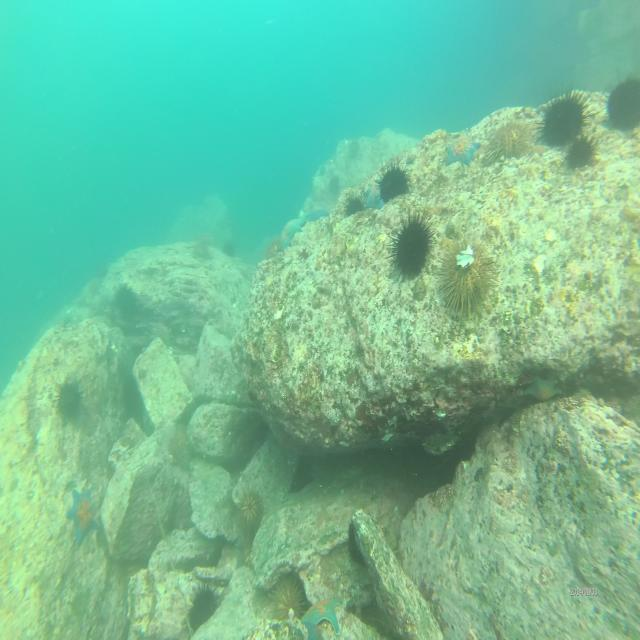echinus: (441, 235, 496, 318), (387, 208, 435, 282), (536, 88, 592, 150), (604, 72, 640, 134), (266, 576, 307, 630), (487, 115, 527, 167), (187, 580, 221, 634), (376, 160, 409, 207), (53, 380, 83, 423), (238, 488, 263, 532), (568, 131, 594, 173), (164, 430, 191, 470), (114, 285, 141, 323), (344, 192, 364, 221)
starfish: (63, 487, 100, 547), (300, 596, 344, 635), (444, 131, 482, 172), (525, 372, 562, 407), (274, 216, 305, 252)
